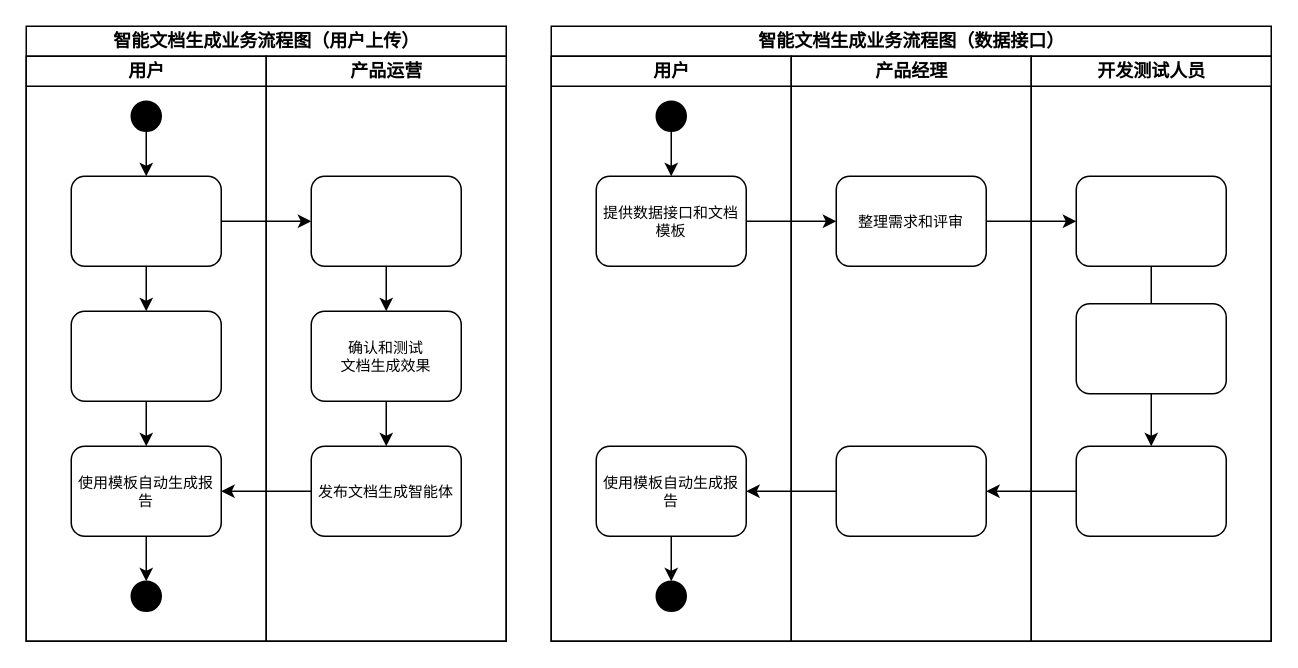
The diagram is 1298 pixels wide and 668 high, and some of its shapes have lost their labels. The centre of each missing label's shape, as x and y in pixels:
上传材料 到知识库: pixel 145 355
创建和编辑 文档生成智能体: pixel 385 220
创建和编辑 智能体测试: pixel 1150 348
功能发布: pixel 1150 490
沟通文档模板需求: pixel 145 220
测试和发布智能体模板: pixel 910 490
结构化知识库 数据采集功能开发: pixel 1150 220
